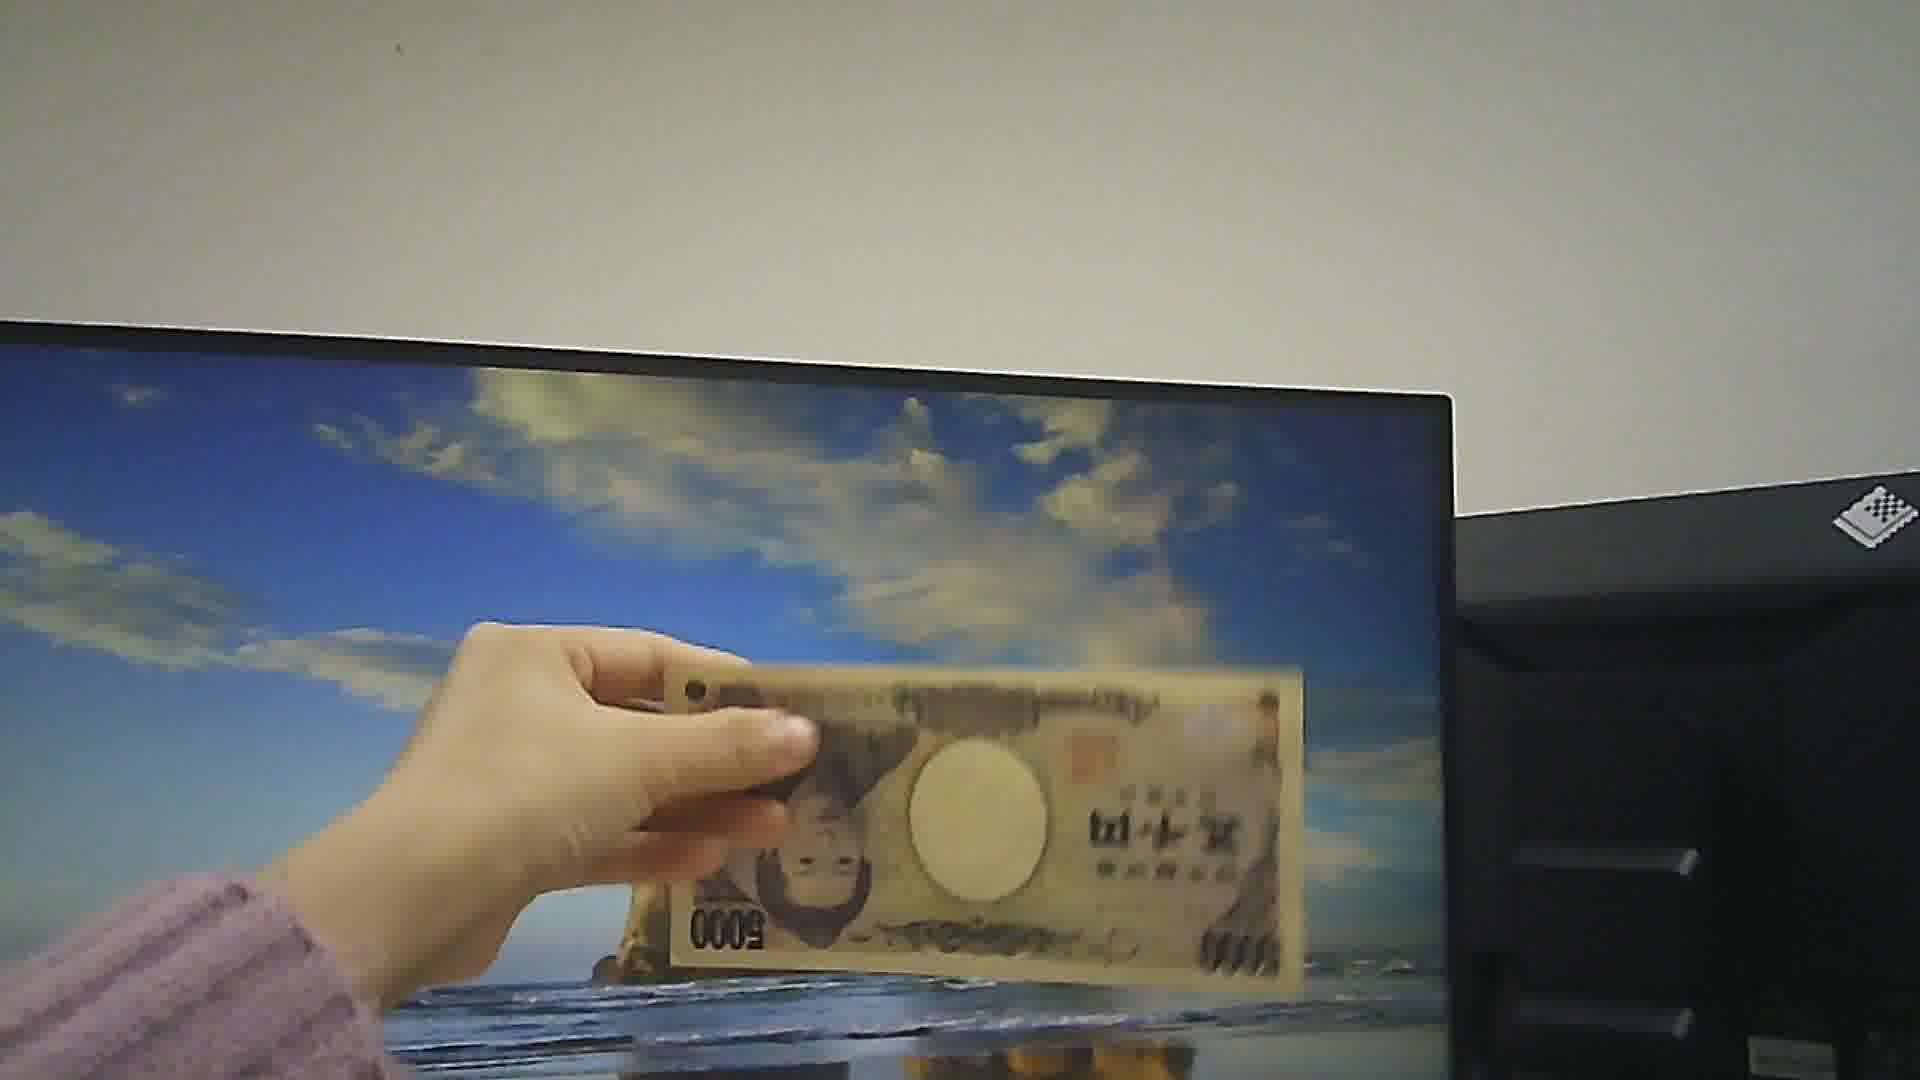5,000 Yen: (632, 640, 1335, 1000)
